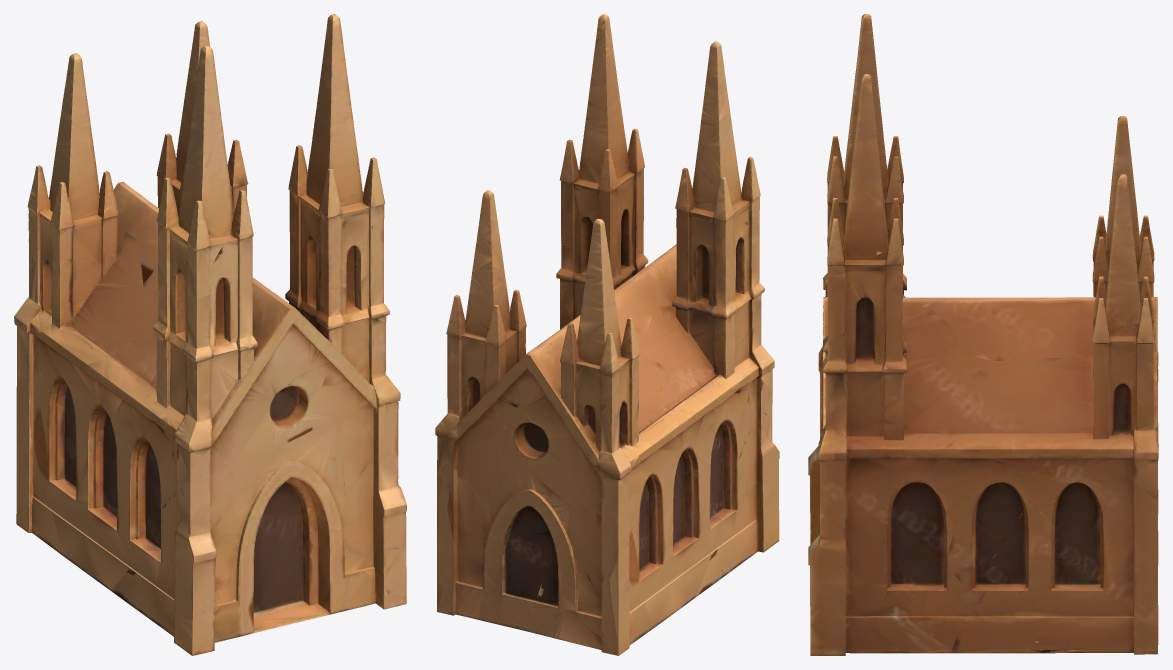
The model's file is gothic_pbr.glb.
3 views of the same model, side by side, from view 1: azimuth 30°, elevation 25°; view 2: azimuth 150°, elevation 25°; view 3: azimuth 270°, elevation 25° (orthographic). The views are drawn at different scales.
Visible parts, largest first — view 1: model; view 2: model; view 3: model.
Boxes of the visible parts, x1,y1,x2,y2 form: model: [14, 14, 406, 655]; model: [435, 14, 779, 655]; model: [808, 14, 1158, 655].
Bounding box in the file's own units: 0.7302 × 1.88 × 1.06.
1 material, 1 textured.
